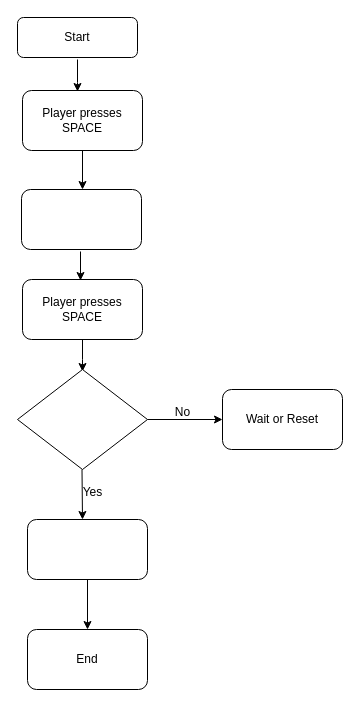
The diagram is 360 pixels wide and 707 high, and some of its shapes have lost their labels. Here are the shapes that lost their labels. From the top down, the box of each, then its label:
(20, 188, 142, 250): Play animation
(16, 368, 148, 470): Is character colliding with boxes?
(26, 518, 148, 580): Add points
